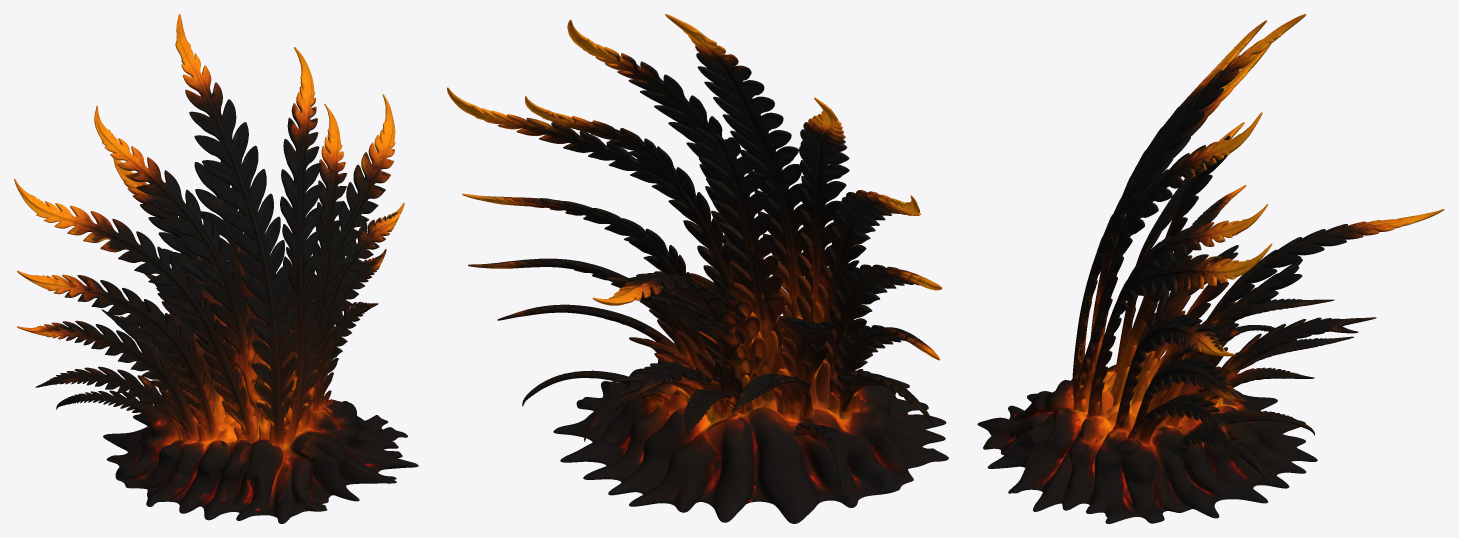
3 views of the same model, side by side, from view 1: azimuth 30°, elevation 25°; view 2: azimuth 150°, elevation 25°; view 3: azimuth 270°, elevation 25° (orthographic). The views are drawn at different scales.
Visible parts, largest first — view 1: node_0; view 2: node_0; view 3: node_0.
Boxes of the visible parts, box(x1,y1,x2,y2) form: node_0: box(14, 14, 418, 523); node_0: box(447, 14, 948, 523); node_0: box(977, 14, 1444, 523).
Size of the model in its own units: 0.869 by 0.8478 by 0.8254.
1 material, 1 textured.
